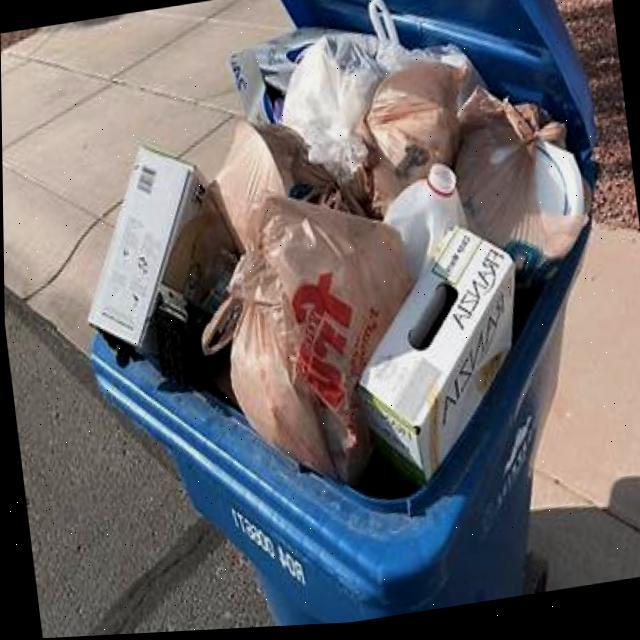Cardboard: (357, 231, 512, 482), (87, 146, 236, 384)
Garbage: (87, 1, 585, 487)
Plastic_Bag: (227, 201, 409, 487), (279, 1, 481, 219), (453, 92, 584, 295), (213, 123, 344, 251)
Plastic_Container: (382, 168, 464, 282)
